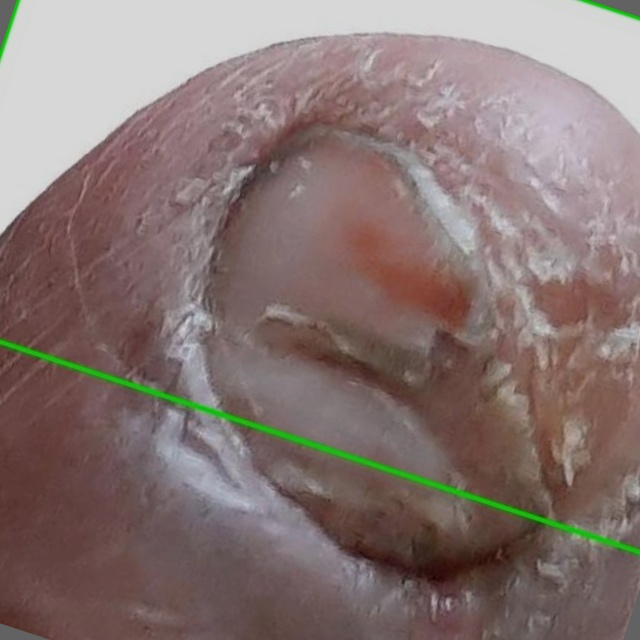Contact Dermatitis: (0, 0, 639, 552)
